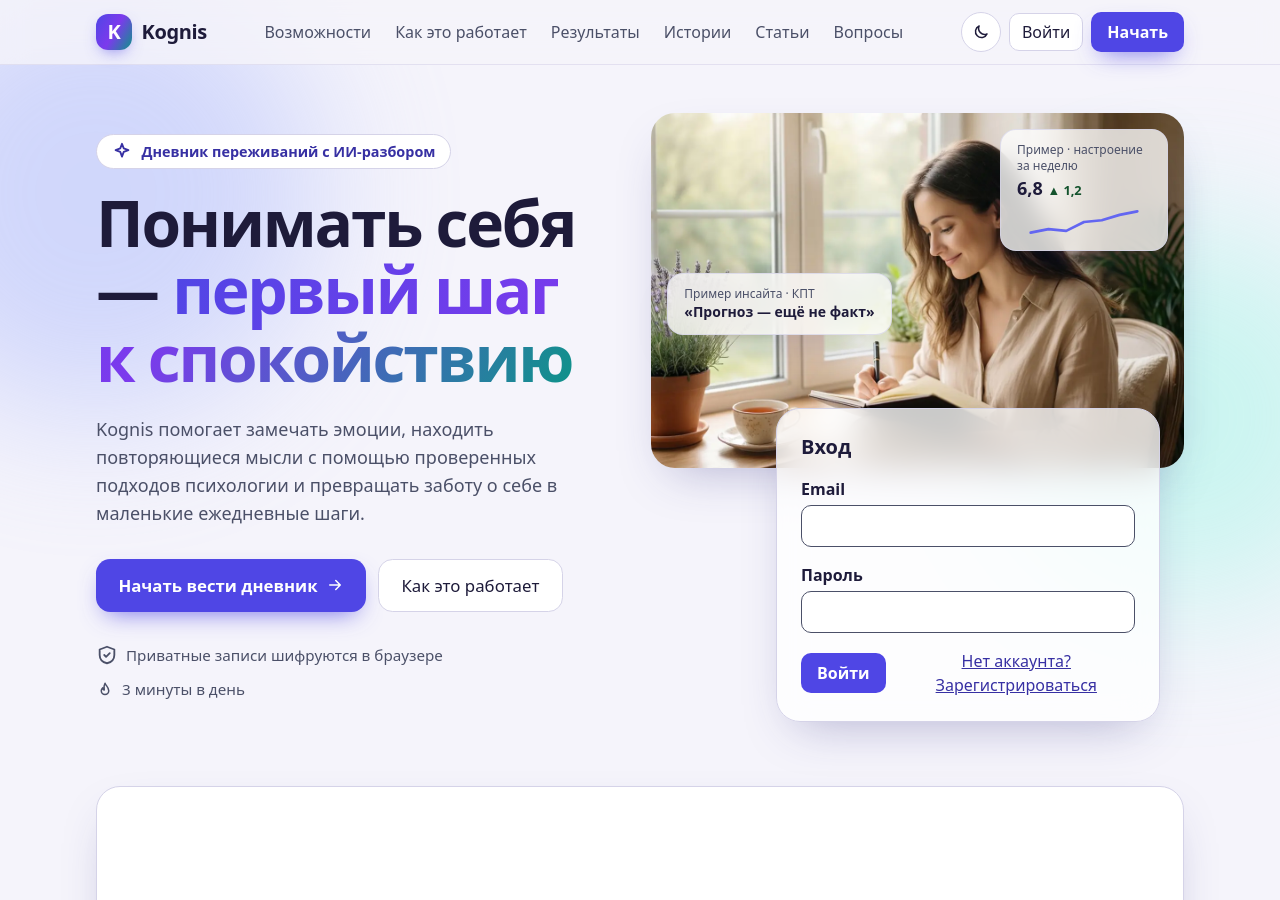
Test: показывает ошибку входа
Type "ann@example.com" into the field labelled "Email" at [968, 526], box [801,505,1135,547]
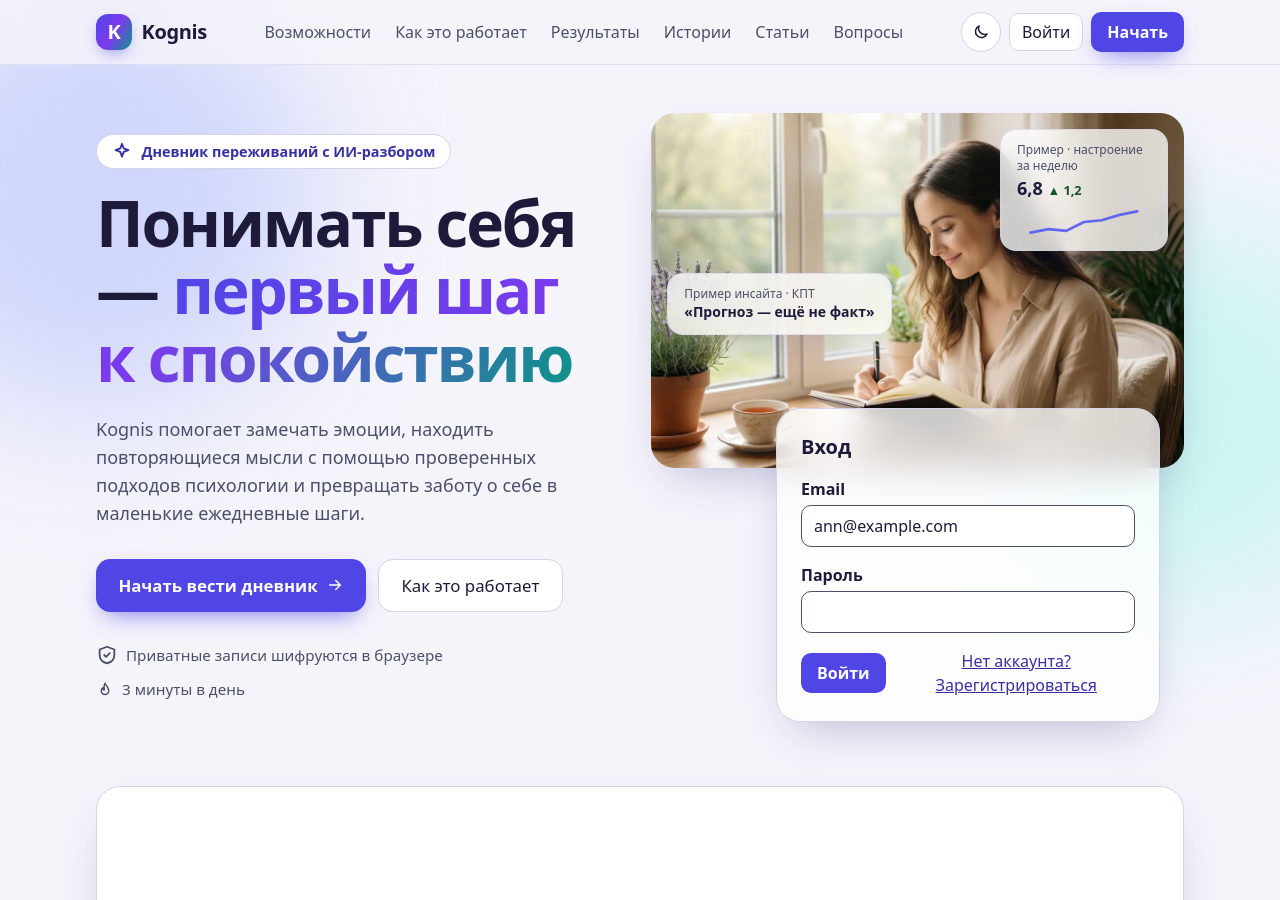
Type "wrong wrong" into the password field labelled "Пароль" at [968, 612], box [801,591,1135,633]
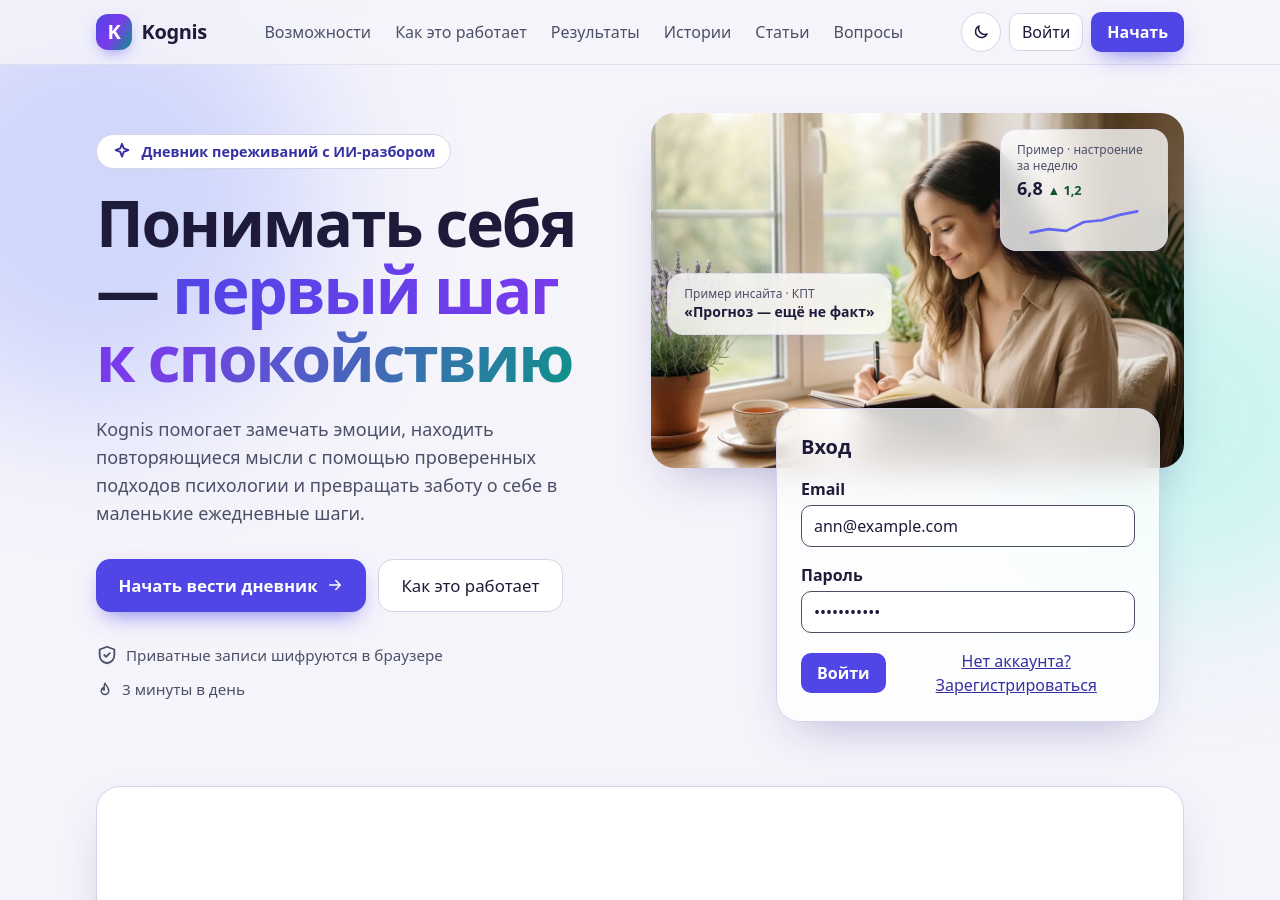
Click the button with test id "auth-submit" at [843, 673], box [801,653,886,693]
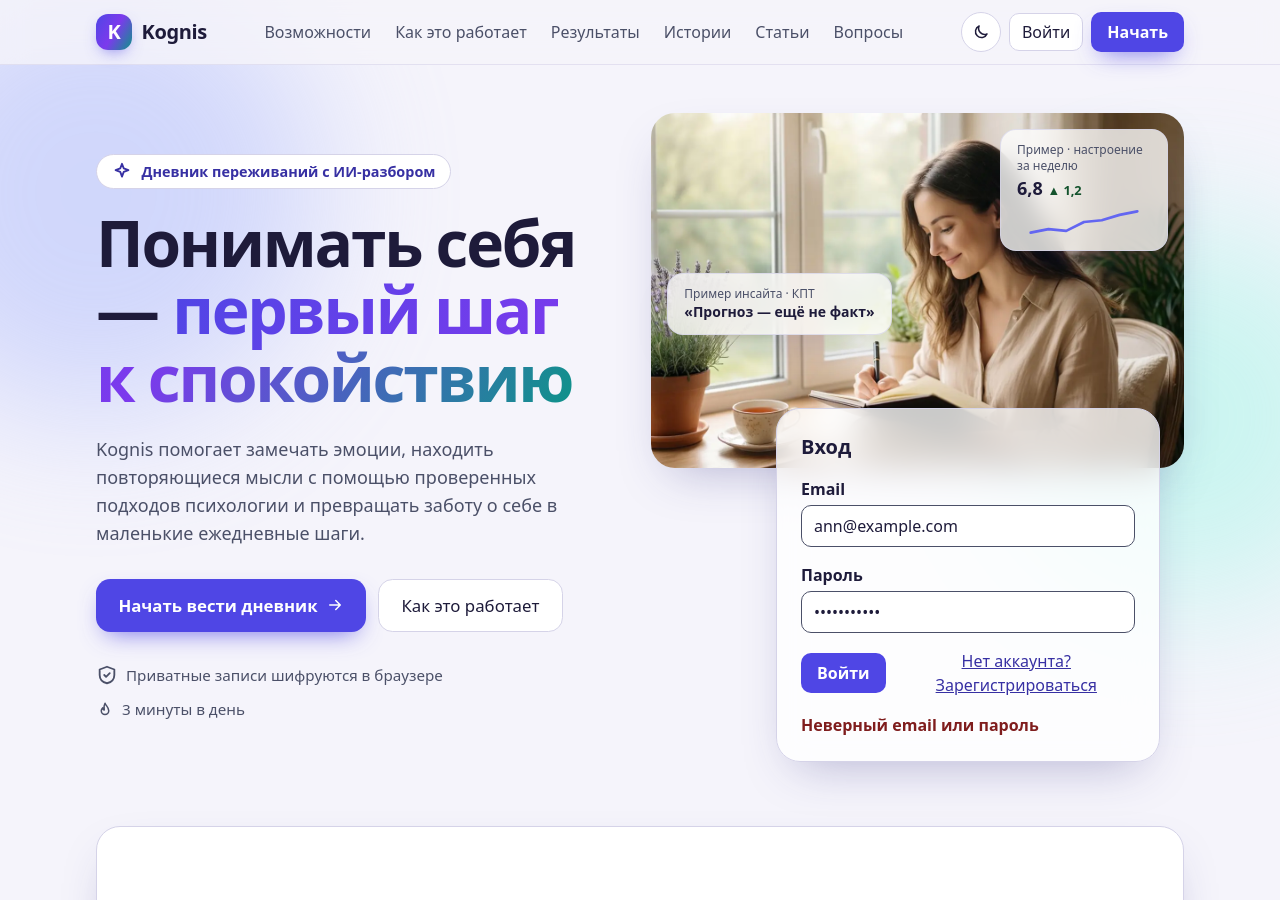
Result: the message reads "Неверный email или пароль" at [801,714,1039,736]
